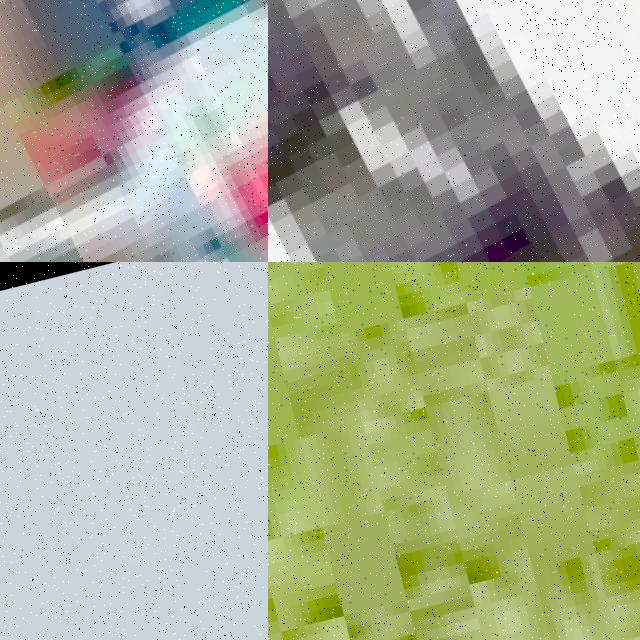0: (0, 0, 268, 262)
drone: (268, 0, 640, 262)
